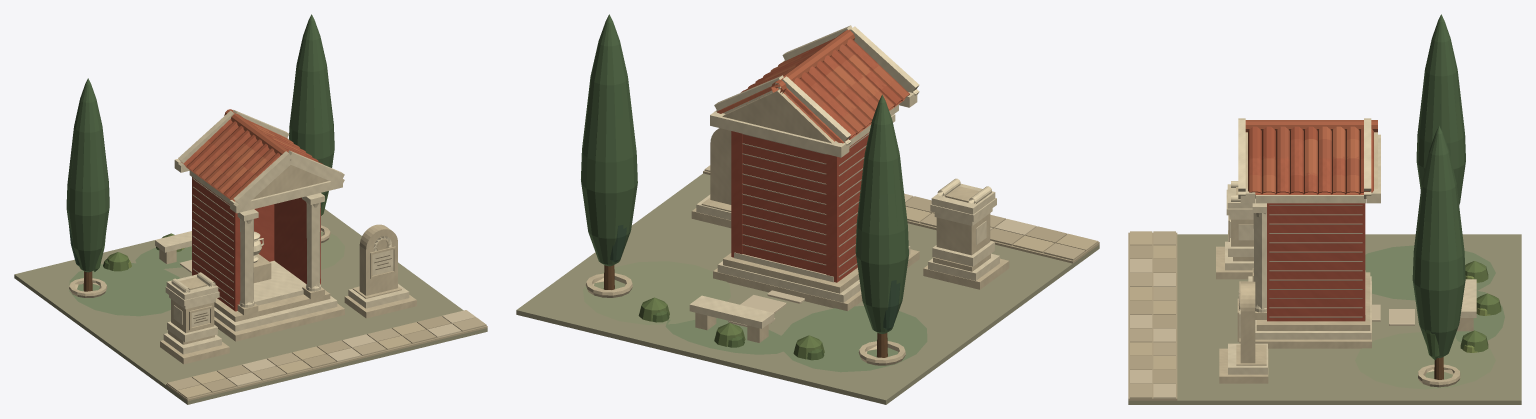
The model's file is verona_tombs_shrine.glb.
The picture shows the model from 3 angles, left to right: view 1: azimuth 30°, elevation 25°; view 2: azimuth 150°, elevation 25°; view 3: azimuth 270°, elevation 25°; orthographic projection. The views are drawn at different scales.
Visible parts, largest first — view 1: Garden_earth.003, Cypress_middle.002, Limestone_trim.002, Garden_earth.002, Travertine.002, Limestone_trim.003, Travertine.003, Pompeian_red.002, Quiet_turf.002, Pompeian_red.003, Limestone_trim.004, Cypress_middle.003 (+12 smaller); view 2: Garden_earth.003, Garden_earth.002, Cypress_middle.002, Pompeian_red.003, Travertine.002, Limestone_trim.002, Quiet_turf.002, Travertine.003, Limestone_trim.003, Dry_turf.002, Pompeian_red.002, Cypress_middle.003 (+16 smaller); view 3: Garden_earth.002, Garden_earth.003, Pompeian_red.002, Cypress_middle.002, Travertine.002, Travertine.003, Limestone_trim.002, Limestone_trim.003, Quiet_turf.002, Dry_turf.002, Cypress_middle.003, Tile_0.002 (+16 smaller).
Boxes of the visible parts, <box> form: Garden_earth.003: <box>14,209,487,404</box>; Cypress_middle.002: <box>66,14,334,272</box>; Limestone_trim.002: <box>155,110,408,353</box>; Garden_earth.002: <box>14,209,467,403</box>; Travertine.002: <box>69,165,415,362</box>; Limestone_trim.003: <box>155,158,409,354</box>; Travertine.003: <box>72,228,416,364</box>; Pompeian_red.002: <box>211,193,306,309</box>; Quiet_turf.002: <box>69,246,191,316</box>; Pompeian_red.003: <box>192,177,320,311</box>; Limestone_trim.004: <box>184,202,320,304</box>; Cypress_middle.003: <box>67,67,333,272</box>; Garden_earth.003: <box>516,173,1099,404</box>; Garden_earth.002: <box>517,173,1098,403</box>; Cypress_middle.002: <box>581,14,908,333</box>; Pompeian_red.003: <box>731,131,868,282</box>; Travertine.002: <box>586,89,1008,365</box>; Limestone_trim.002: <box>691,25,999,327</box>; Quiet_turf.002: <box>665,306,927,372</box>; Travertine.003: <box>594,143,1009,359</box>; Limestone_trim.003: <box>689,60,999,328</box>; Dry_turf.002: <box>583,261,730,324</box>; Pompeian_red.002: <box>733,131,868,258</box>; Cypress_middle.003: <box>582,77,904,333</box>; Garden_earth.002: <box>1129,235,1520,403</box>; Garden_earth.003: <box>1128,234,1521,404</box>; Pompeian_red.002: <box>1268,203,1363,320</box>; Cypress_middle.002: <box>1412,14,1465,357</box>; Travertine.002: <box>1217,132,1472,387</box>; Travertine.003: <box>1216,187,1473,383</box>; Limestone_trim.002: <box>1226,118,1475,373</box>; Limestone_trim.003: <box>1225,134,1476,374</box>; Quiet_turf.002: <box>1365,245,1504,342</box>; Dry_turf.002: <box>1355,332,1495,389</box>; Cypress_middle.003: <box>1413,72,1463,357</box>; Tile_0.002: <box>1248,139,1373,194</box>.
Bounding box in the file's own units: 9.2 × 6.65 × 9.2.
Materials: 25 (5 with a texture image).
